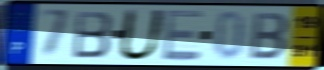0: (214, 9, 248, 62)
7: (38, 7, 71, 61)
B: (248, 11, 291, 62), (72, 9, 115, 60)
E: (162, 8, 206, 63)
U: (115, 7, 169, 63)
